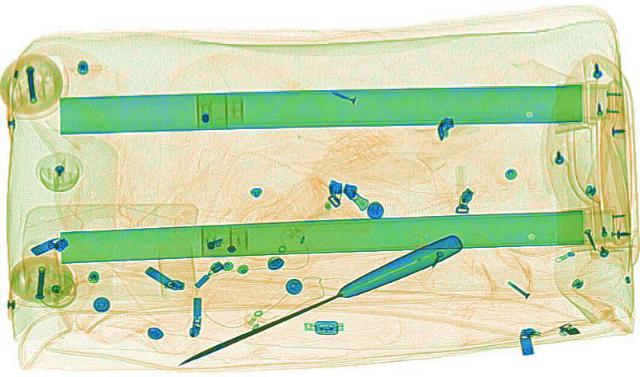Knife: (165, 232, 471, 371)
